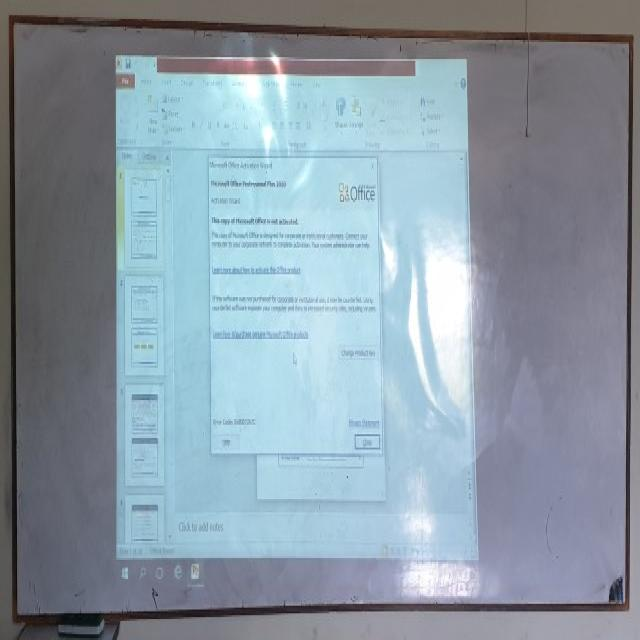Slide: (113, 50, 477, 603)
White-board: (11, 17, 632, 620)
